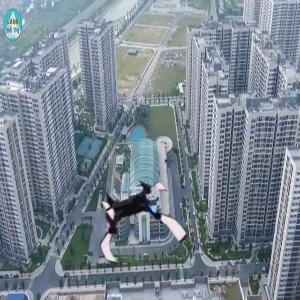drone: (88, 176, 185, 273)
